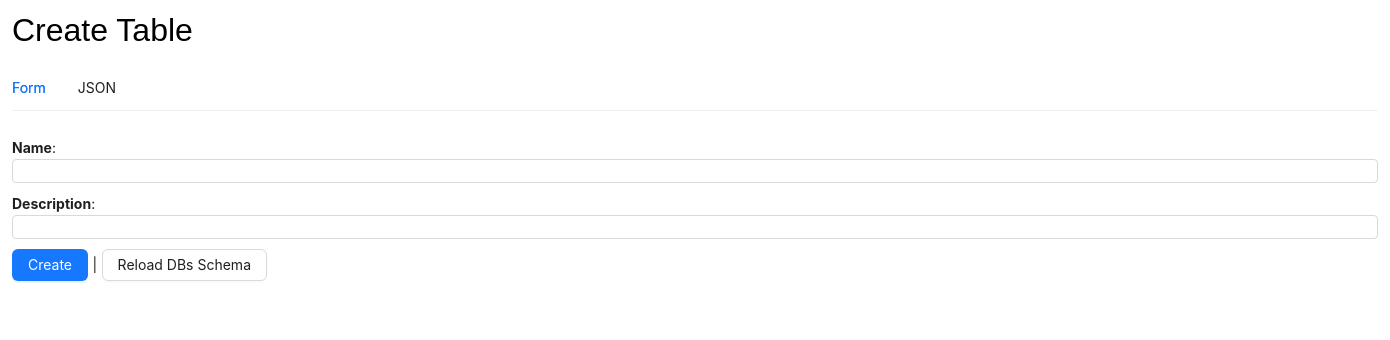
it: CreateTableForm › shows an error alert when creation fails
This screenshot has width=1390, height=340.
Click the button "Create": click(50, 265) [12,249,88,281]
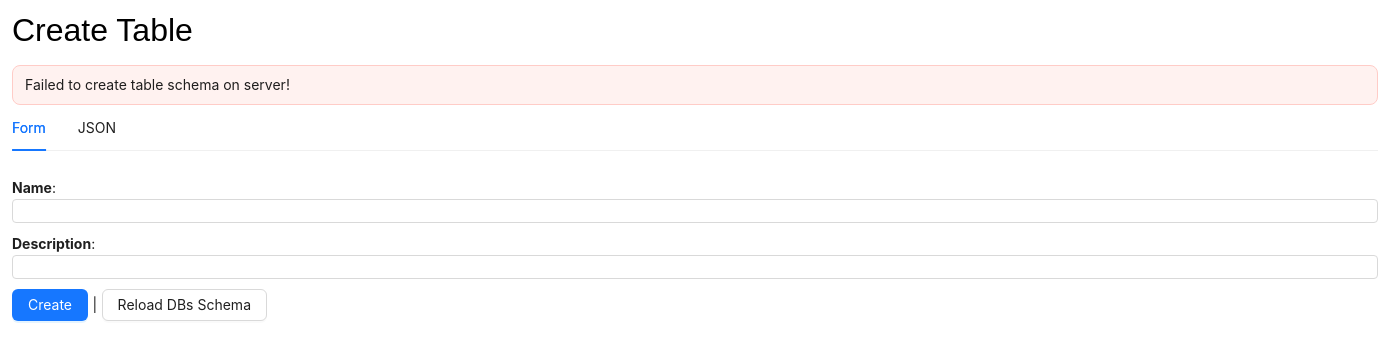
Expected: the text "Failed to create table schema on server!" is shown, [25,76,290,93]
